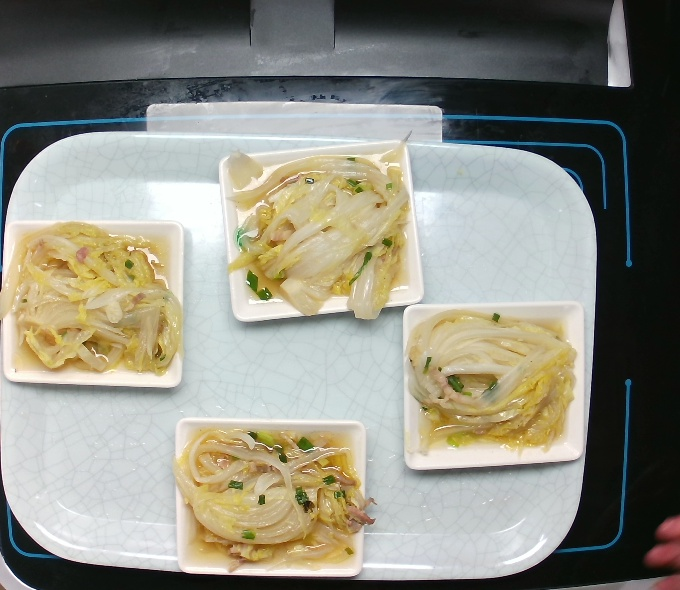wcq-DaBaiCaiRouMou: (230, 150, 411, 309), (175, 423, 367, 571), (3, 220, 183, 374), (408, 308, 579, 453)
